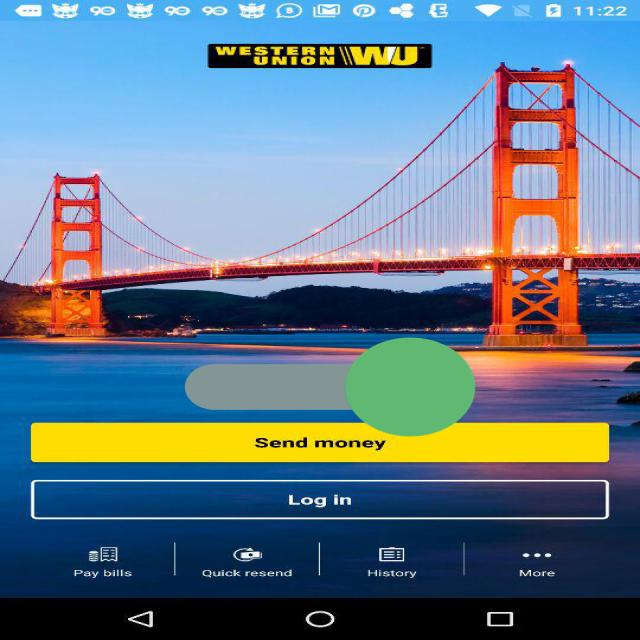social proof: (185, 277, 475, 497)
